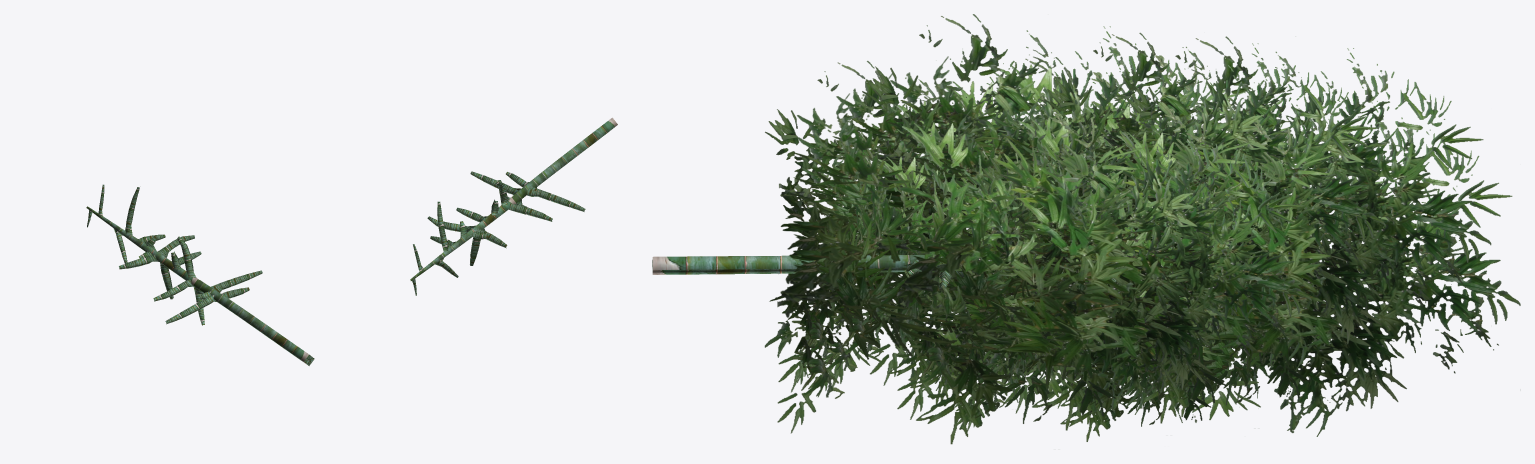
The picture shows the model from 3 angles, left to right: view 1: azimuth 30°, elevation 25°; view 2: azimuth 150°, elevation 25°; view 3: azimuth 270°, elevation 25°; orthographic projection. The views are drawn at different scales.
Visible parts, largest first — view 1: Sans_titre; view 2: Sans_titre; view 3: Sans_titre.
Part boxes in pixels (x1,y1,x2,y2): Sans_titre: (86, 184, 314, 365); Sans_titre: (410, 117, 617, 295); Sans_titre: (652, 14, 1520, 444).
Size of the model in its own units: 2.81 by 7.08 by 13.02.
3 materials, 3 textured.
